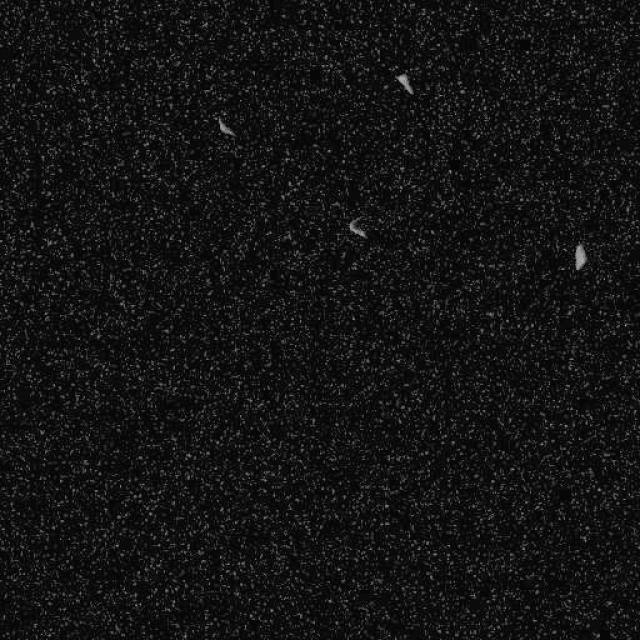D2: (347, 215, 368, 240), (394, 71, 414, 95), (572, 242, 588, 270), (216, 116, 236, 138)
